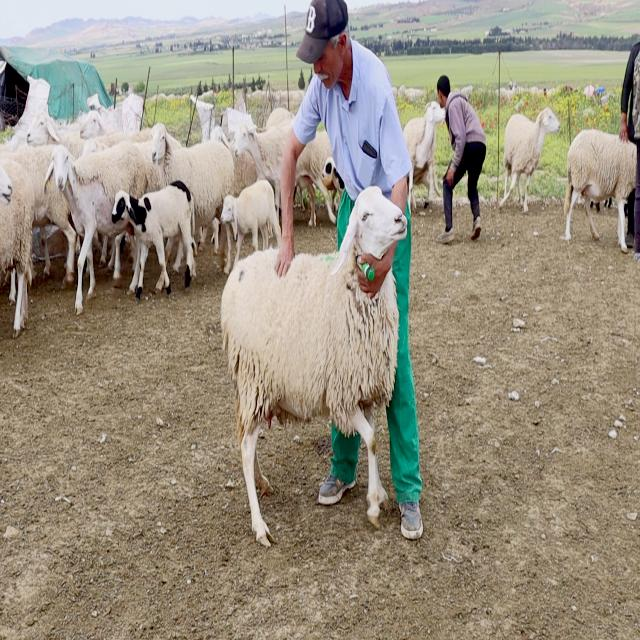Score_5: (221, 187, 406, 546)
